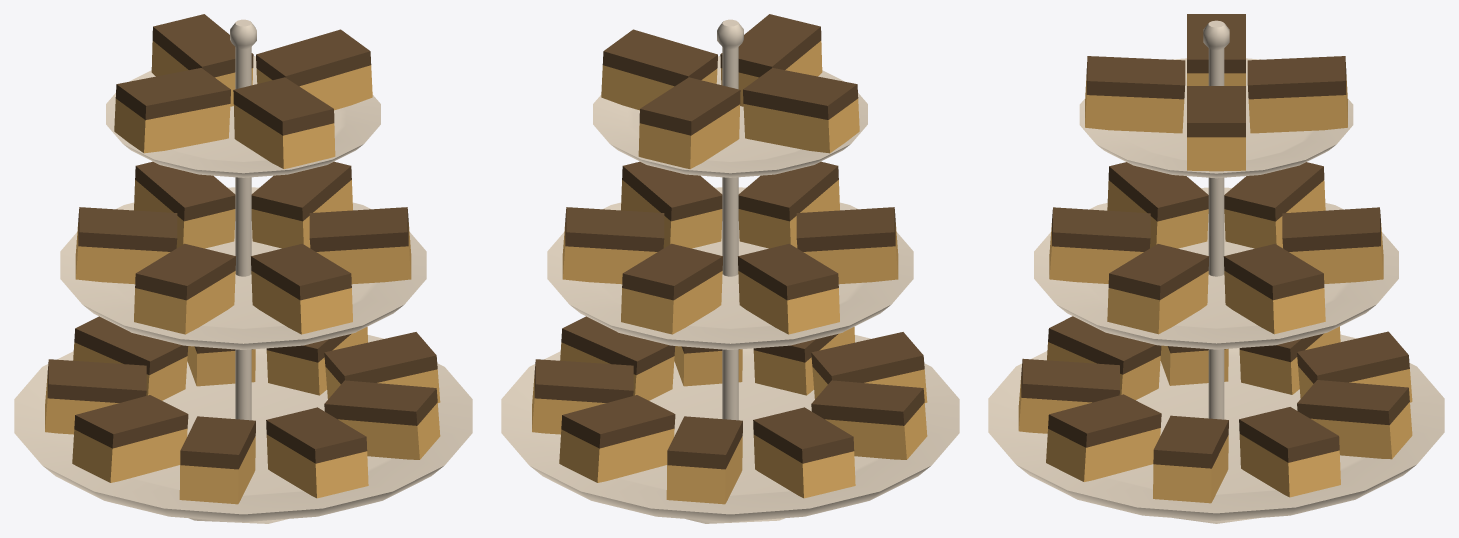
Rendered from dessert stand.fbx.
The picture shows the model from 3 angles, left to right: view 1: azimuth 30°, elevation 25°; view 2: azimuth 150°, elevation 25°; view 3: azimuth 270°, elevation 25°; orthographic projection.
Parts seen in each view (by area): view 1: plate_1, plate_2, cakething_20, cakething_9, cakething_17, cakething_2, cakething_16, cakething_11, cakething_3, plate_3, cakething_15, cakething_12 (+11 smaller); view 2: plate_1, plate_2, cakething_20, cakething_6, cakething_19, cakething_8, cakething_15, cakething_14, cakething_9, plate_3, cakething_16, cakething_13 (+11 smaller); view 3: plate_1, plate_2, cakething_3, plate_3, cakething_17, cakething_19, cakething_5, cakething_13, cakething_12, cakething_6, cakething_14, cakething_11 (+11 smaller).
Part boxes in pixels (x1,y1,x2,y2): plate_1: (14,335,472,522); plate_2: (60,187,426,349); cakething_20: (114,68,230,153); cakething_9: (72,395,188,482); cakething_17: (233,77,335,168); cakething_2: (266,407,368,498); cakething_16: (134,243,235,334); cakething_11: (251,243,352,334); cakething_3: (324,380,440,459); plate_3: (106,56,380,177); cakething_15: (75,207,177,284); cakething_12: (309,207,411,284); plate_1: (501,335,959,522); plate_2: (547,187,913,349); cakething_20: (743,68,859,153); cakething_6: (559,395,675,482); cakething_19: (638,77,740,168); cakething_8: (753,407,855,498); cakething_15: (738,243,839,334); cakething_14: (621,243,722,334); cakething_9: (811,380,927,459); plate_3: (593,56,867,177); cakething_16: (796,207,898,284); cakething_13: (562,207,664,284); plate_1: (988,334,1444,520); plate_2: (1034,187,1398,349); cakething_3: (1046,394,1161,481); plate_3: (1079,58,1353,178); cakething_17: (1085,56,1185,133); cakething_19: (1247,56,1347,133); cakething_5: (1239,407,1340,497); cakething_13: (1223,244,1325,334); cakething_12: (1107,244,1209,334); cakething_6: (1297,380,1412,459); cakething_14: (1282,207,1383,283); cakething_11: (1049,207,1150,283).
Bounding box in the file's own units: 10.9 × 11.67 × 10.73.
